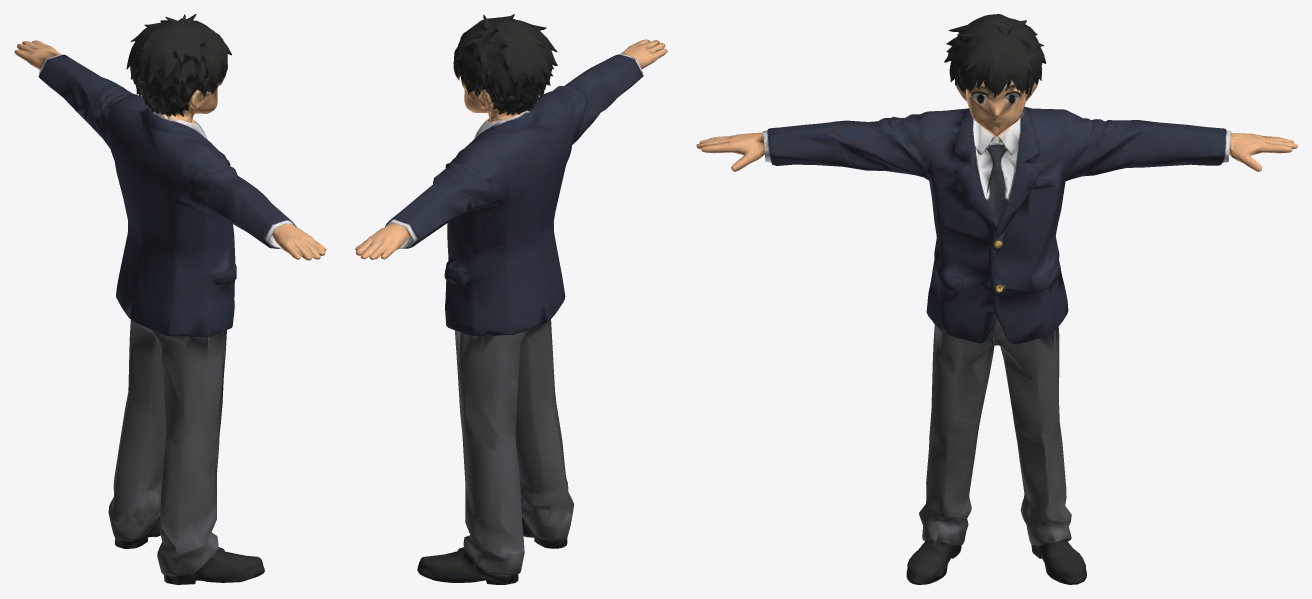
Rendered from blazer.glb.
3 renders of one model, left to right at view 1: azimuth 30°, elevation 25°; view 2: azimuth 150°, elevation 25°; view 3: azimuth 270°, elevation 25°, orthographic.
Visible parts, largest first — view 1: tripo_node_760e4c9f-7841-43d1-a093-7df38b0898a8; view 2: tripo_node_760e4c9f-7841-43d1-a093-7df38b0898a8; view 3: tripo_node_760e4c9f-7841-43d1-a093-7df38b0898a8.
Boxes of the visible parts, left/top/right/bottom form: tripo_node_760e4c9f-7841-43d1-a093-7df38b0898a8: left=14, top=14, right=326, bottom=584; tripo_node_760e4c9f-7841-43d1-a093-7df38b0898a8: left=355, top=14, right=667, bottom=584; tripo_node_760e4c9f-7841-43d1-a093-7df38b0898a8: left=696, top=14, right=1297, bottom=584.
Size of the model in its own units: 0.1873 by 0.9993 by 0.9971.
Materials: 1 (1 with a texture image).
